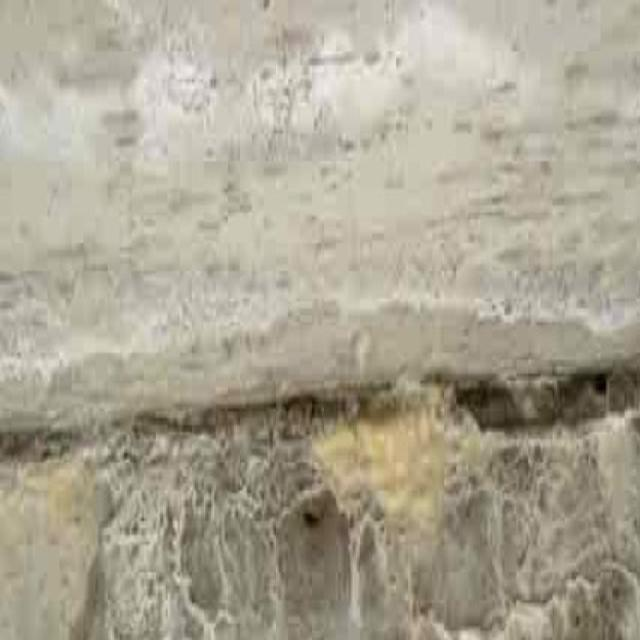freelime: (290, 376, 480, 547)
